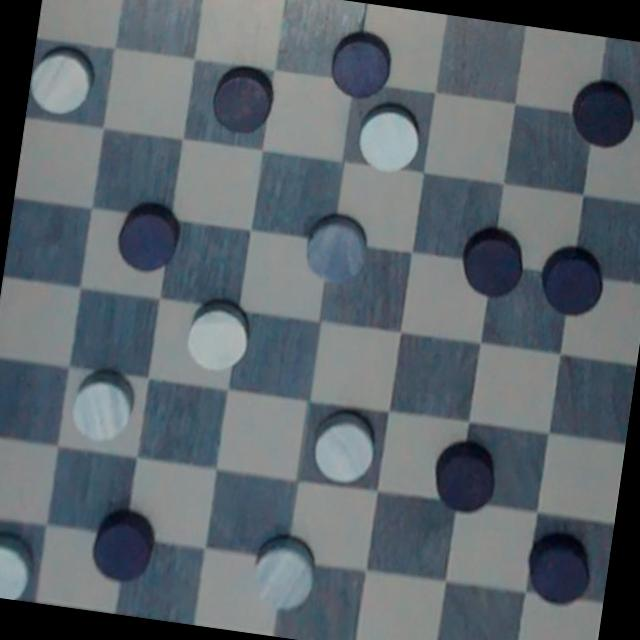BOARD: (0, 0, 640, 640)
black: (204, 56, 280, 142), (110, 196, 186, 279), (521, 528, 596, 612), (320, 23, 398, 101), (426, 442, 504, 519), (454, 227, 532, 304), (566, 76, 640, 155), (89, 506, 162, 586), (536, 246, 612, 320)
white: (296, 202, 376, 298), (309, 400, 382, 487), (246, 534, 323, 616), (26, 43, 103, 124), (65, 370, 141, 448), (181, 302, 259, 376), (355, 106, 430, 182), (0, 523, 39, 602)
